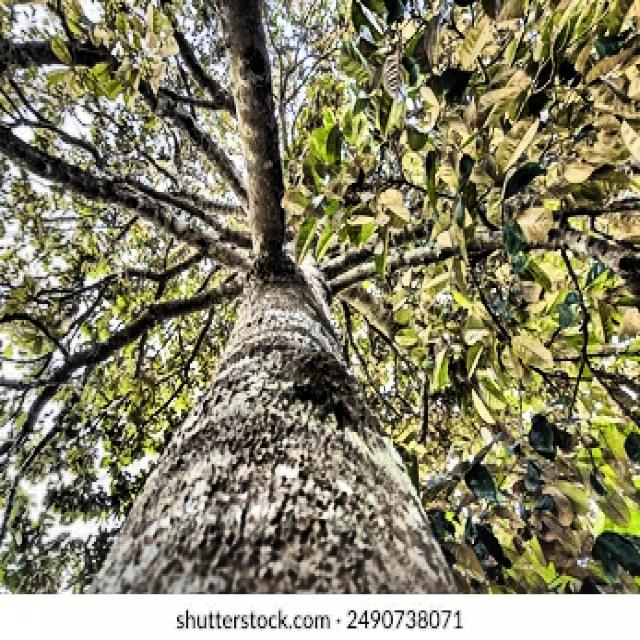arvore: (80, 0, 451, 594)
